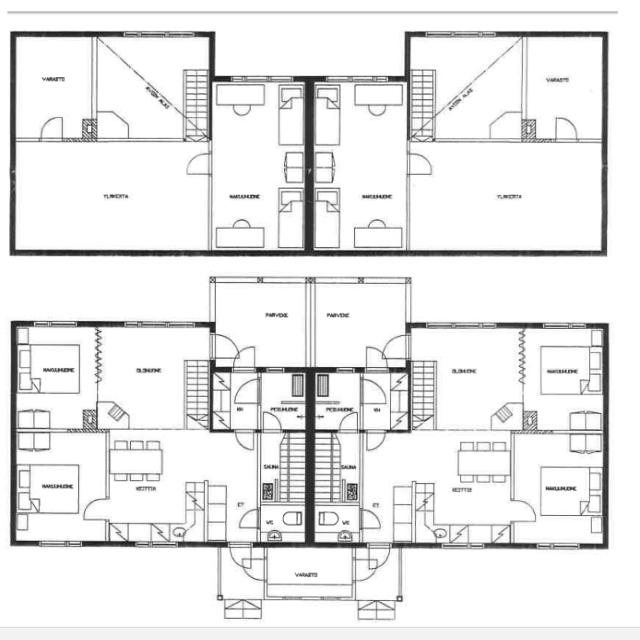door: (15, 34, 97, 142), (257, 371, 308, 432), (314, 374, 361, 434), (226, 540, 266, 583), (346, 546, 386, 584), (90, 107, 132, 142), (485, 107, 525, 142), (30, 113, 70, 144), (369, 338, 406, 369), (404, 148, 439, 180), (205, 331, 240, 361), (360, 342, 392, 374), (548, 114, 581, 145), (505, 496, 539, 526), (79, 494, 112, 524), (364, 542, 393, 576), (379, 333, 412, 362), (182, 149, 214, 178), (356, 378, 386, 406), (232, 379, 262, 405), (355, 507, 383, 533), (232, 344, 258, 372), (232, 426, 257, 454), (235, 506, 262, 531), (362, 428, 388, 453), (259, 408, 284, 434), (336, 410, 361, 434)
window: (421, 26, 504, 43), (118, 316, 198, 332), (117, 27, 197, 43), (422, 317, 501, 333), (516, 36, 531, 117), (87, 37, 102, 115), (224, 71, 298, 86), (323, 71, 392, 86), (535, 318, 593, 334), (30, 314, 84, 331), (32, 536, 89, 552), (530, 540, 586, 556), (129, 537, 184, 553), (436, 538, 490, 554), (264, 366, 288, 376), (333, 366, 357, 374)
zone: (5, 141, 214, 254), (407, 139, 607, 255), (212, 74, 308, 256), (311, 76, 408, 252), (106, 437, 237, 546), (94, 322, 212, 432), (408, 324, 524, 434), (95, 33, 212, 142), (408, 34, 525, 142), (404, 442, 511, 547), (508, 434, 606, 544), (12, 431, 108, 541), (13, 322, 101, 432), (520, 325, 607, 435), (14, 32, 96, 142), (524, 33, 604, 142), (311, 432, 359, 544), (258, 432, 310, 504), (257, 370, 310, 431), (310, 371, 360, 431), (311, 505, 360, 544), (259, 503, 305, 543), (354, 224, 403, 252)
